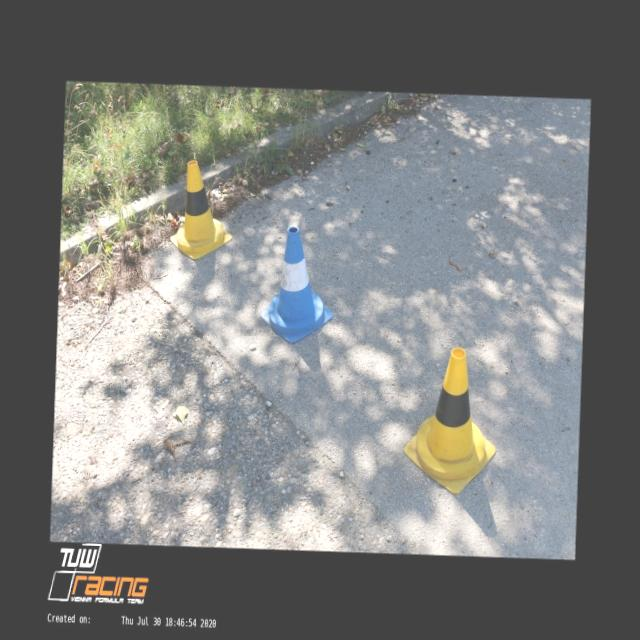blue_cone: (258, 224, 337, 343)
yellow_cone: (402, 346, 498, 496), (168, 159, 234, 261)
